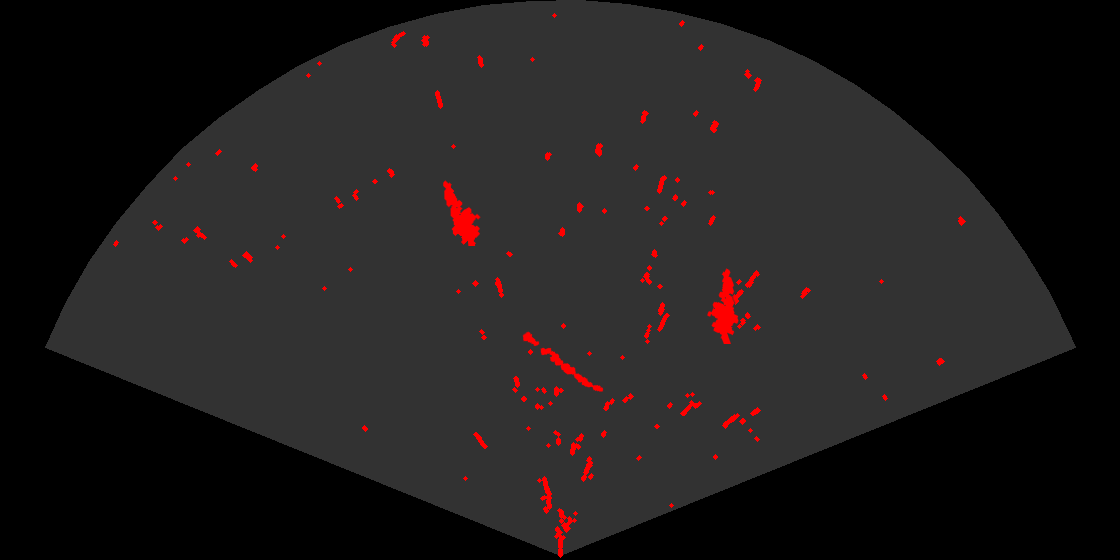chain: (521, 330, 605, 393)
frogman: (442, 179, 482, 246), (706, 267, 740, 344)
